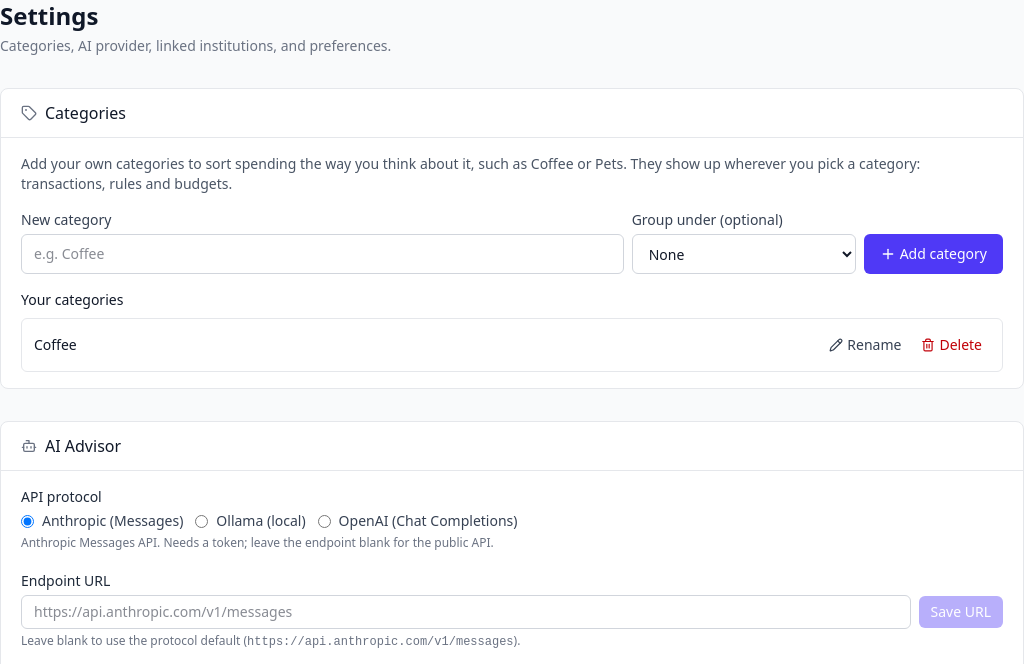
SettingsPage categories › delete or merge › deletes to Uncategorized and explains what happens to rules and budgets
Click the button with aria-label "Delete or merge Coffee" at (952,345), box x1=913 y1=327 x2=990 y2=363
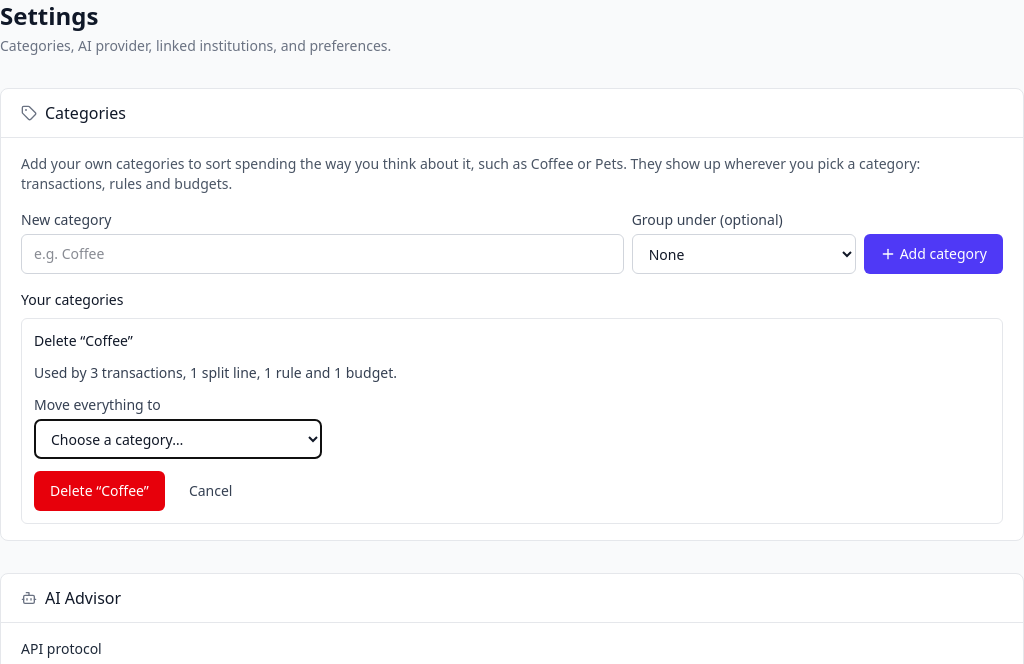
Select "Uncategorized" in the dropdown labelled "Move everything to" at (178,439), box x1=34 y1=419 x2=322 y2=459
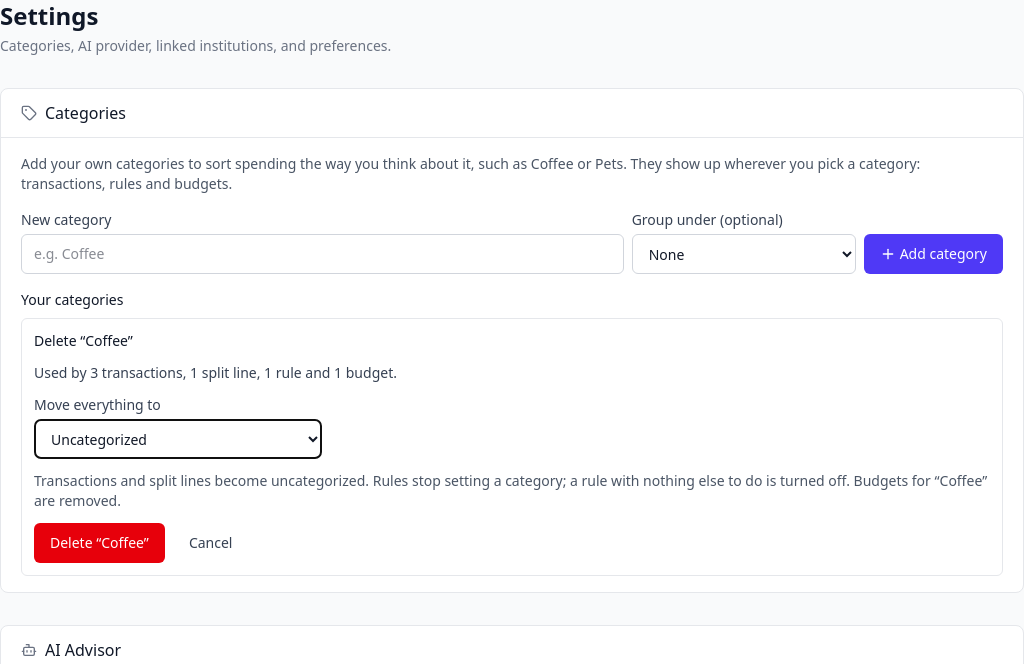
Result: the text "become uncategorized" shows "Budgets for “Coffee” are removed." at x1=34 y1=471 x2=987 y2=510
Click the button "Delete “Coffee”" at (99,543), box x1=34 y1=523 x2=165 y2=563
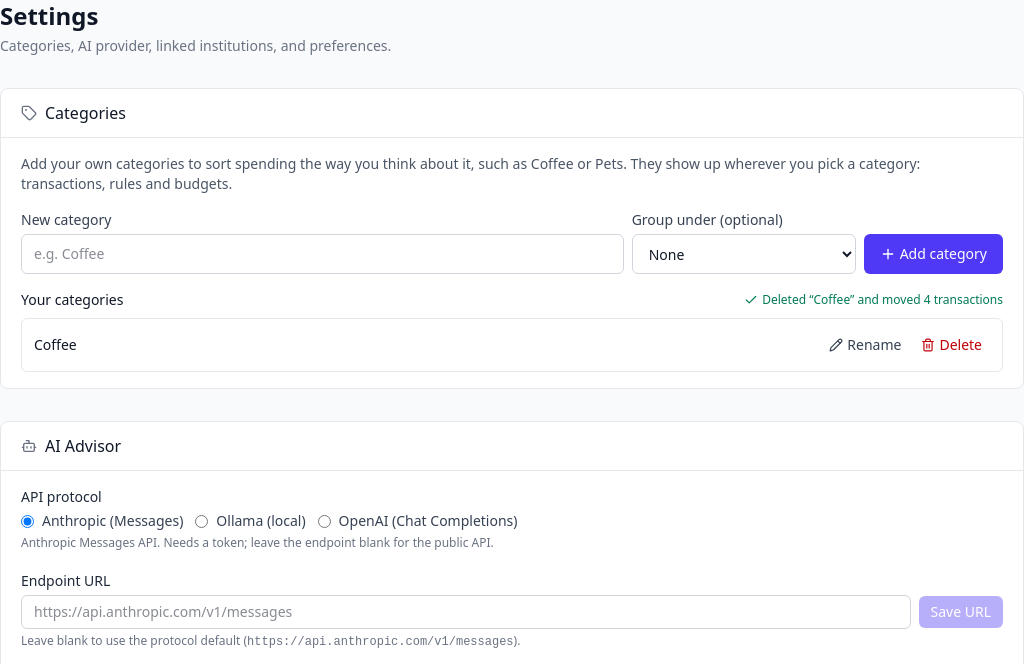
Result: the message reads "Deleted “Coffee” and moved 4 transactions" at x1=762 y1=291 x2=1003 y2=308
